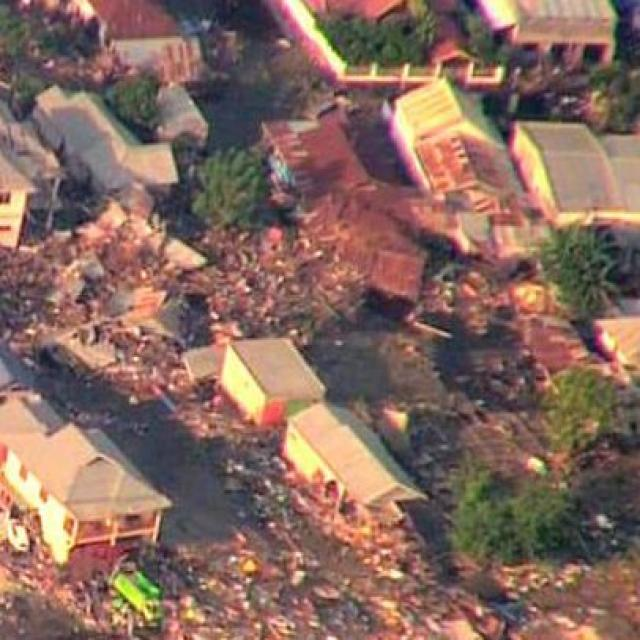collapsed_building: (30, 211, 411, 369), (419, 262, 588, 449), (271, 414, 427, 573)
